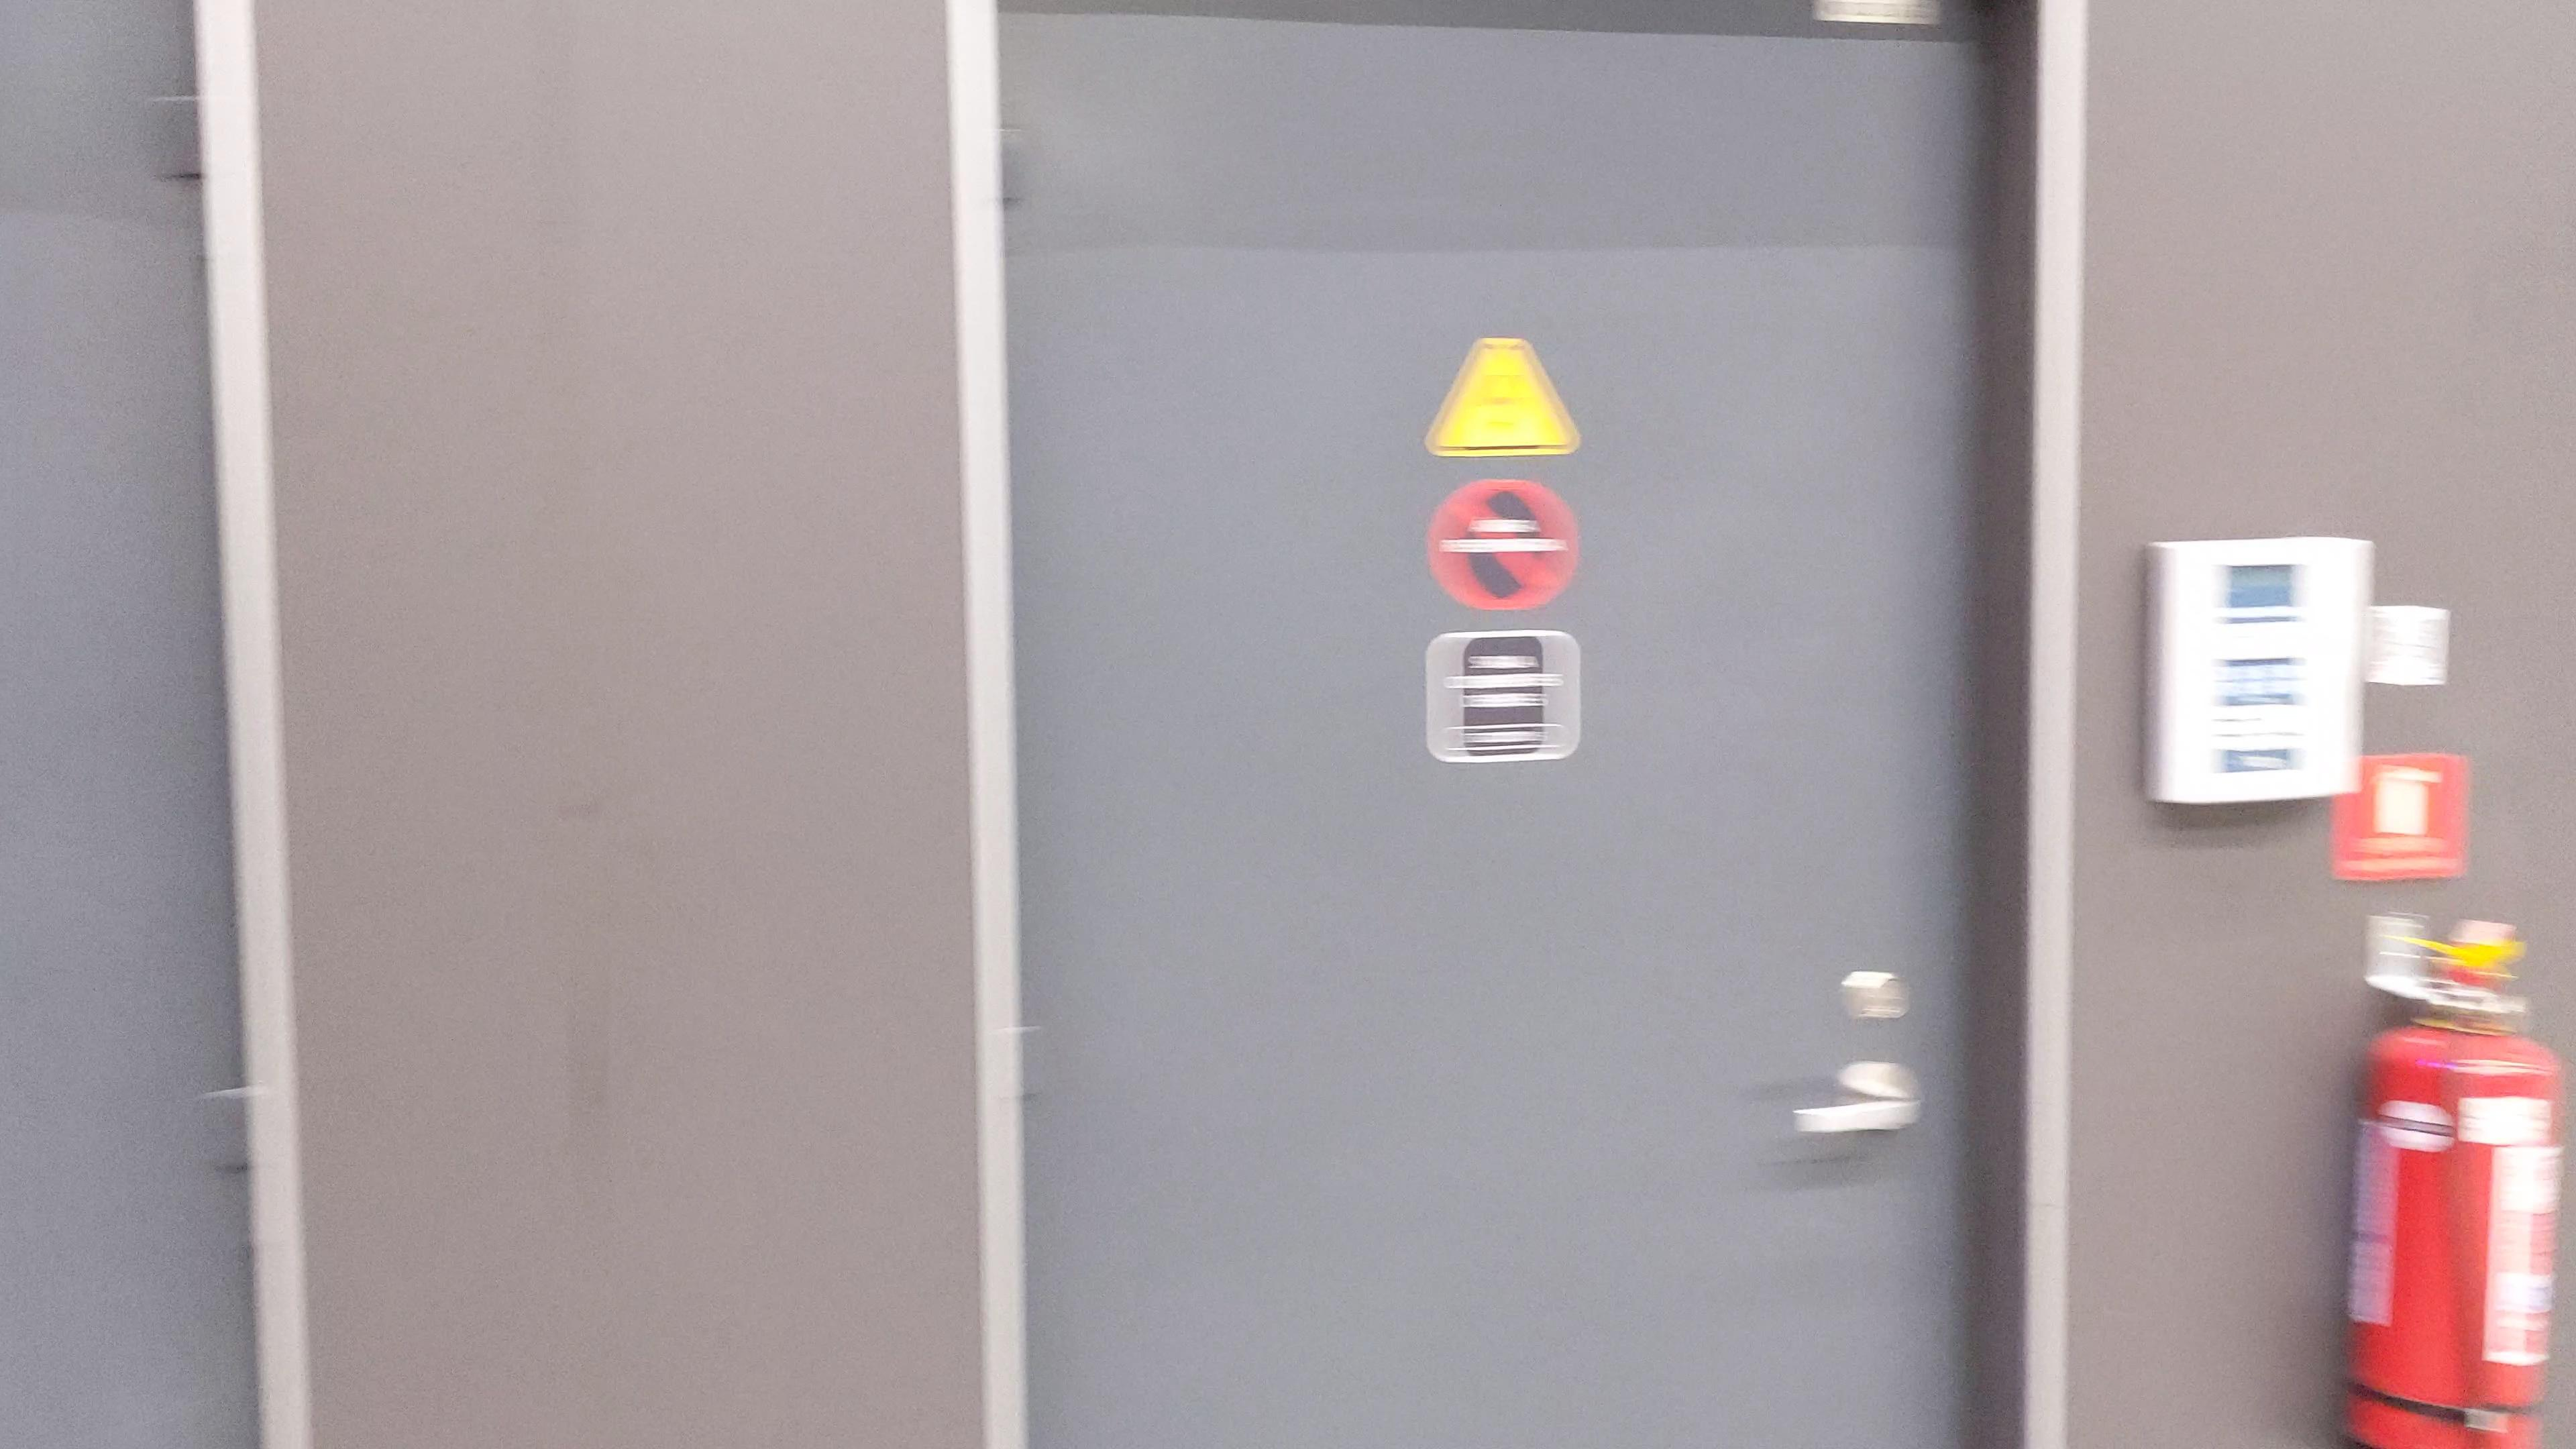danger-electricity: (1424, 329, 1582, 462)
